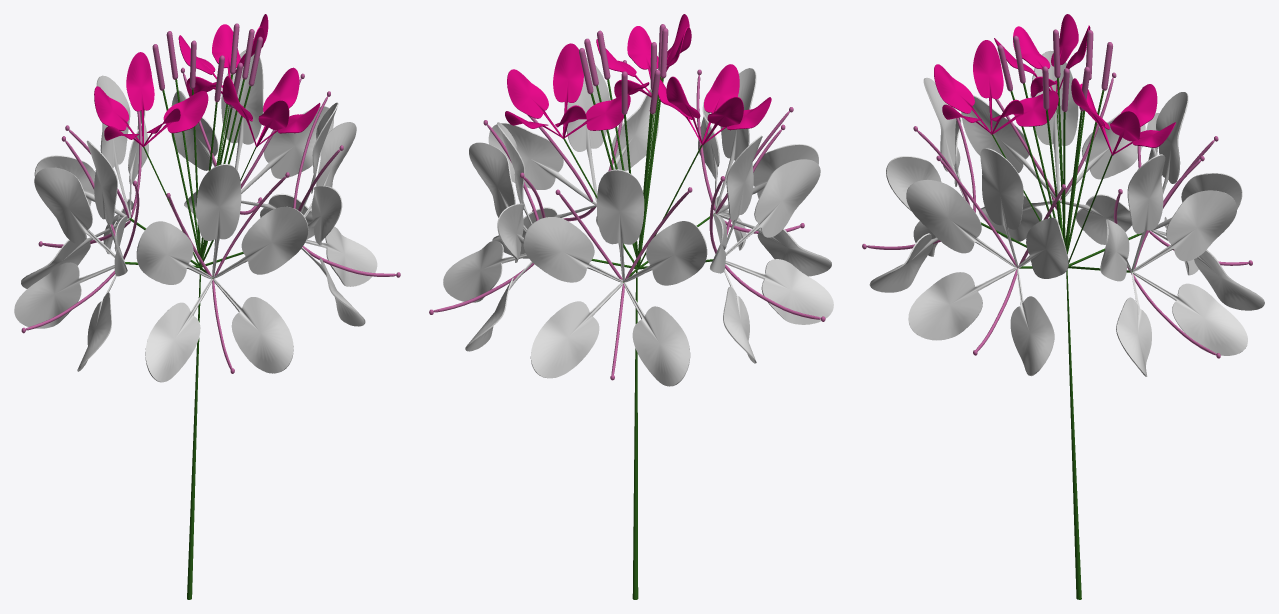
The picture shows the model from 3 angles, left to right: view 1: azimuth 30°, elevation 25°; view 2: azimuth 150°, elevation 25°; view 3: azimuth 270°, elevation 25°; orthographic projection. The views are drawn at different scales.
Visible parts, largest first — view 1: f15; view 2: f15; view 3: f15.
Part boxes in pixels (<box>): f15: <box>14,14,400,599</box>; f15: <box>429,14,833,599</box>; f15: <box>862,14,1264,599</box>.
Size of the model in its own units: 0.4611 by 0.7169 by 0.4626.
